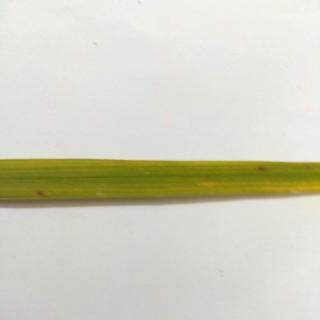bercak-Cokelat: (32, 186, 52, 202), (249, 161, 270, 176)
